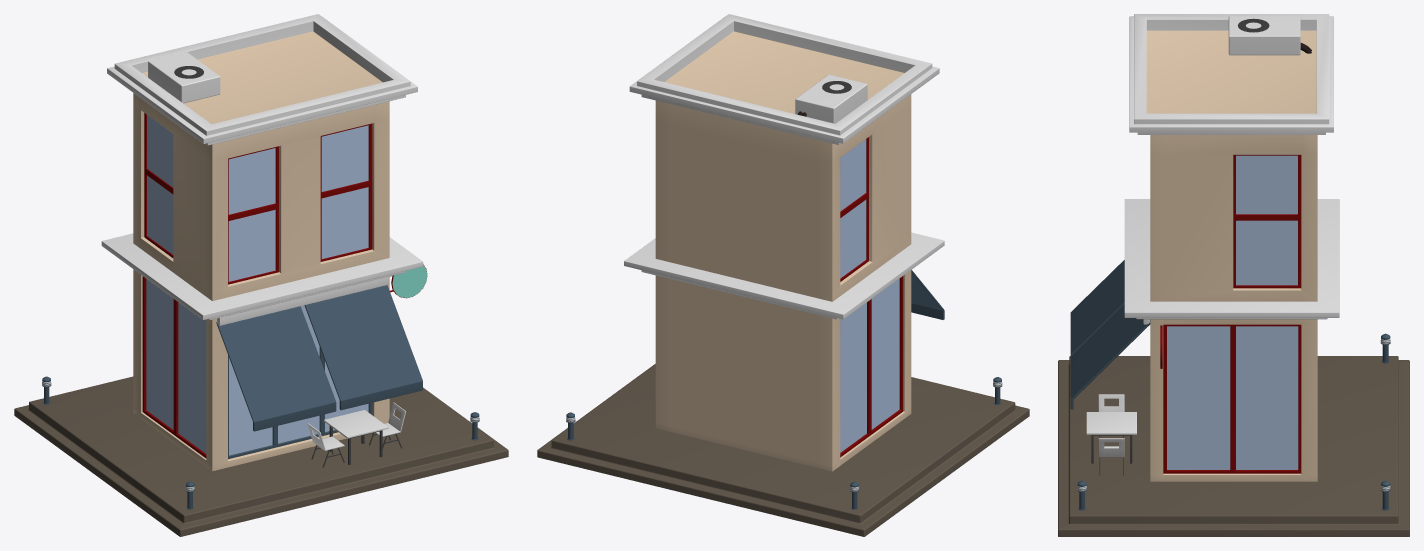
File: Building #14.fbx
3 views of the same model, side by side, from view 1: azimuth 30°, elevation 25°; view 2: azimuth 150°, elevation 25°; view 3: azimuth 270°, elevation 25° (orthographic). The views are drawn at different scales.
Visible parts, largest first — view 1: coffe house; view 2: coffe house; view 3: coffe house.
Boxes of the visible parts, box(x1,y1,x2,y2) form: coffe house: box(14, 14, 508, 536); coffe house: box(537, 14, 1029, 536); coffe house: box(1058, 14, 1409, 536).
Size of the model in its own units: 2803 by 3038 by 2456.
